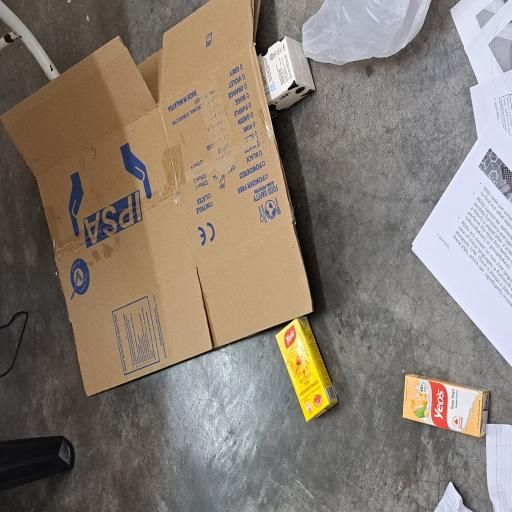cardboard: (85, 2, 384, 417)
drink carton: (66, 366, 149, 454), (302, 344, 356, 422)
plastic bag: (337, 403, 384, 512)
